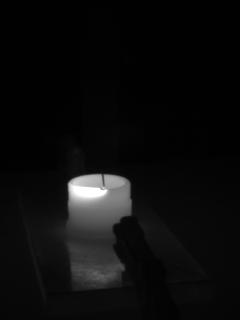tip_wire_left: (86, 163, 105, 189)
tip_wire_right: (103, 162, 116, 189)
